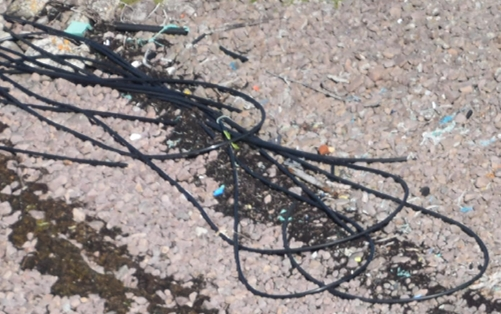more_tube: (182, 75, 493, 308), (2, 9, 183, 190)
straight_bar: (109, 11, 189, 44), (212, 37, 257, 69)
